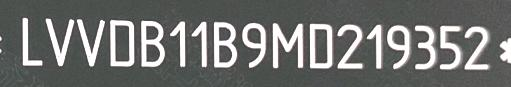letter: (271, 21, 306, 70), (43, 16, 76, 67), (74, 16, 105, 69), (107, 16, 137, 67), (139, 17, 167, 68), (462, 22, 491, 71), (335, 23, 365, 70), (210, 19, 238, 68), (308, 21, 334, 70), (20, 15, 44, 68), (385, 23, 412, 70), (241, 21, 266, 70), (438, 22, 463, 71), (413, 24, 438, 71), (167, 18, 189, 69), (188, 18, 209, 69), (365, 21, 384, 70)
